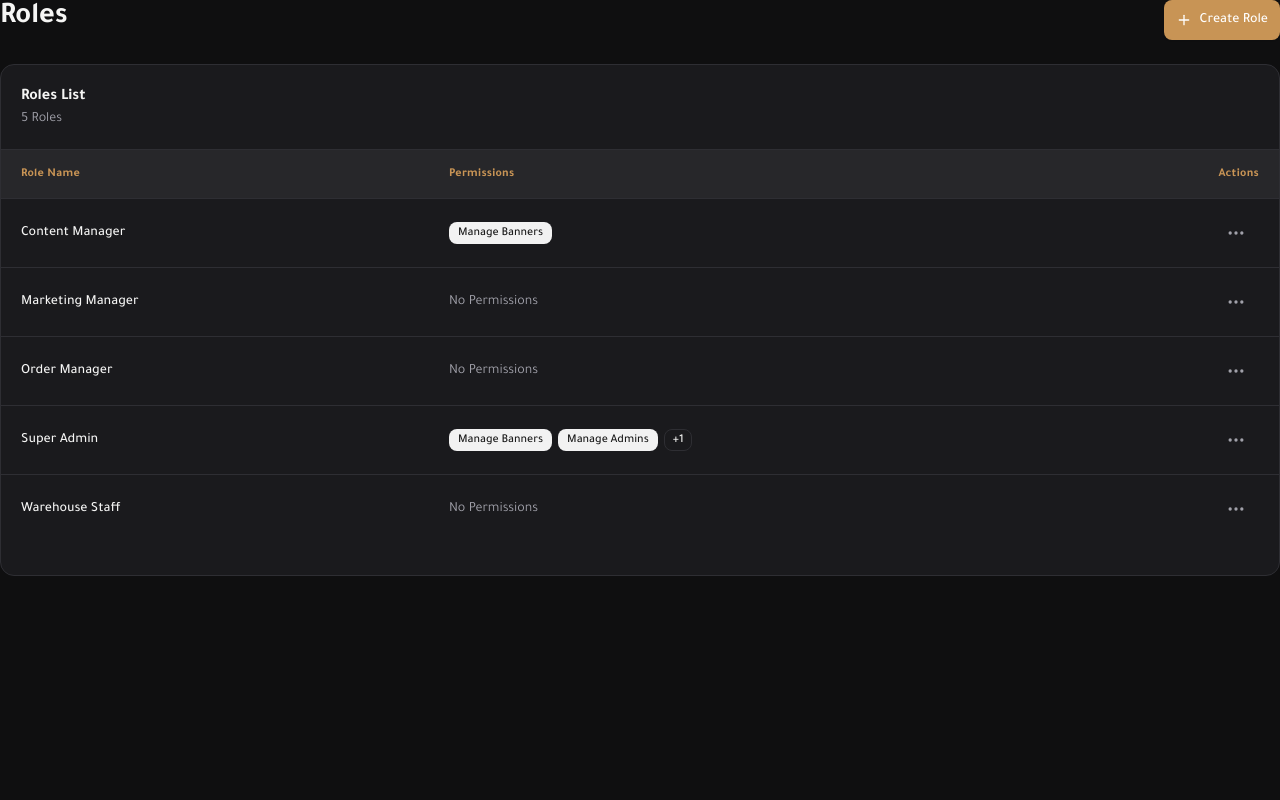
RolesPage › shows drawer error with retry when role detail cannot load
Step 1. Click the button named "Actions for Content Manager" → (1236, 232), box [1218,214,1254,250]
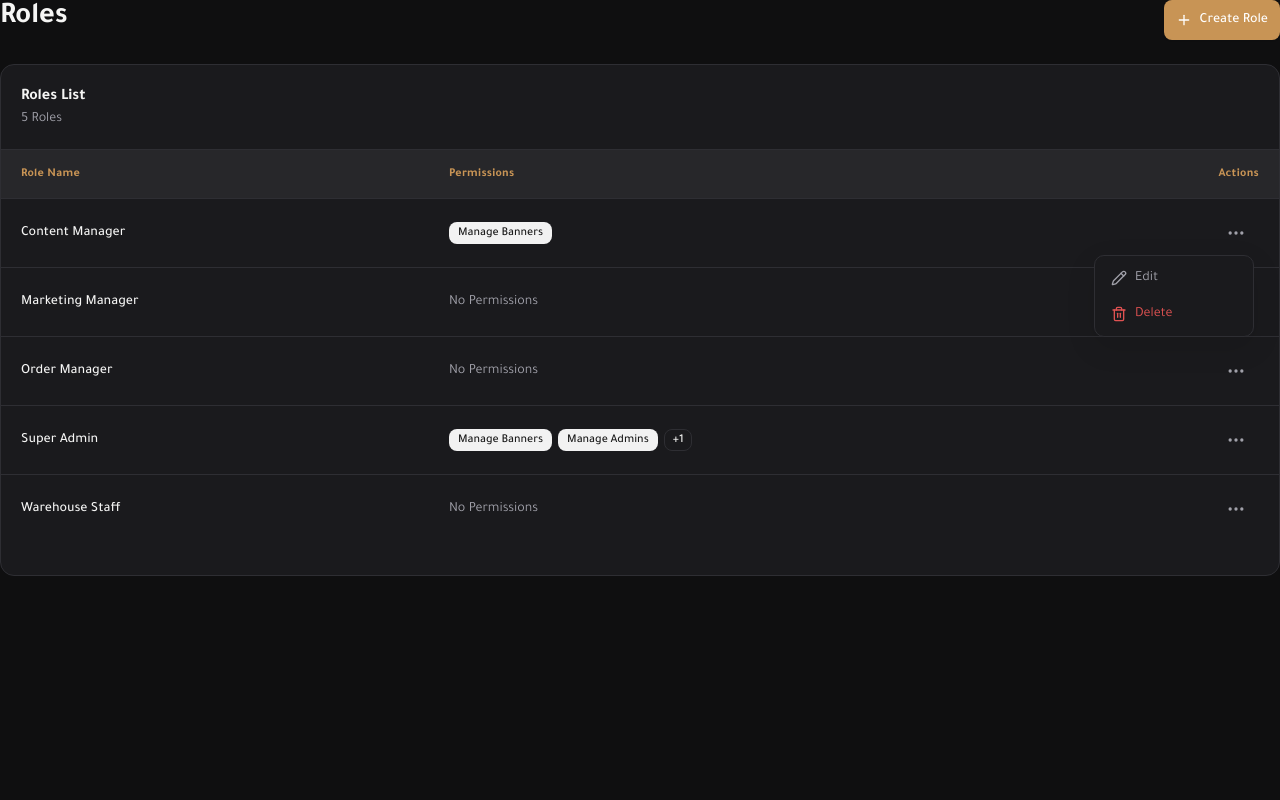
Step 2. Click the menu item "Edit" → (1135, 278), box [1111,270,1158,286]
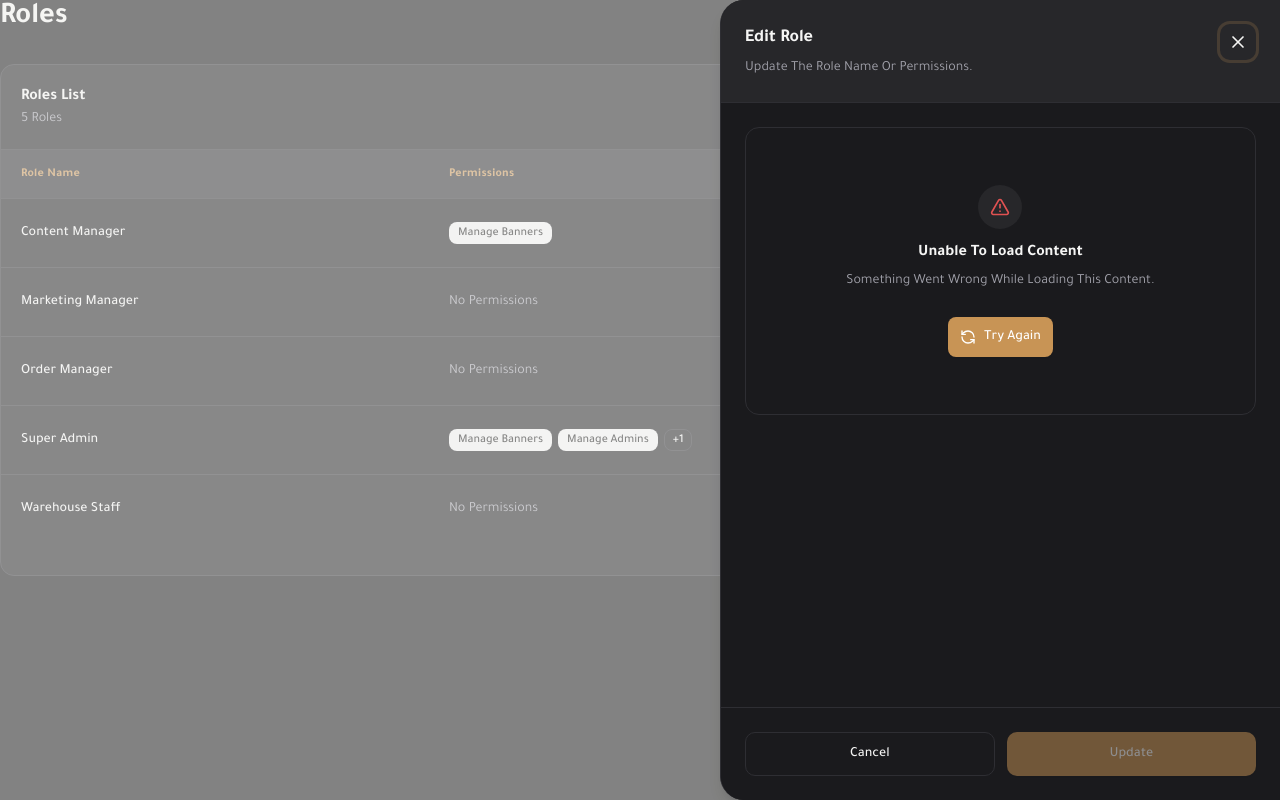
Now the element with test id "query-state-loading-error" is shown, box [745,127,1256,415]
Step 3. Click the button "Try again" → (1000, 337), box [948,317,1053,357]
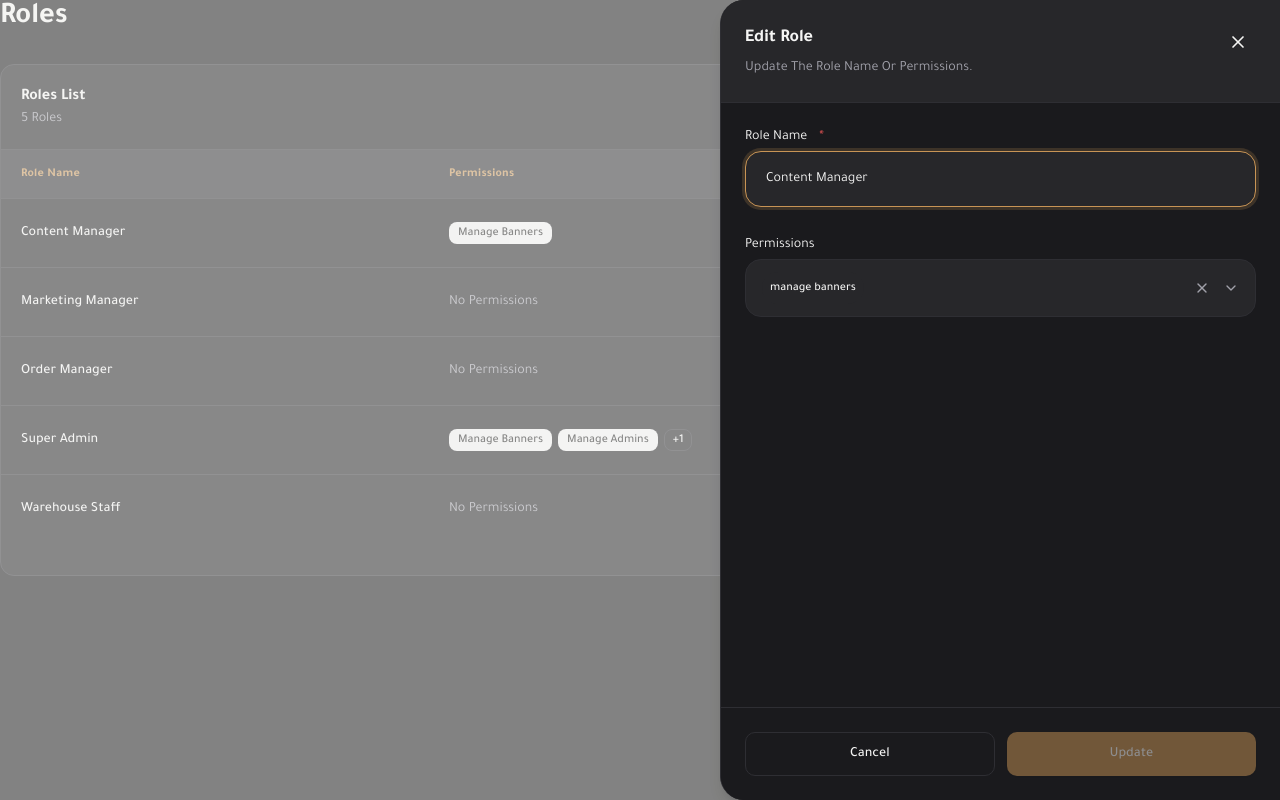
Now the field labelled "Role Name *" holds "Content Manager", box [754,161,1247,197]
